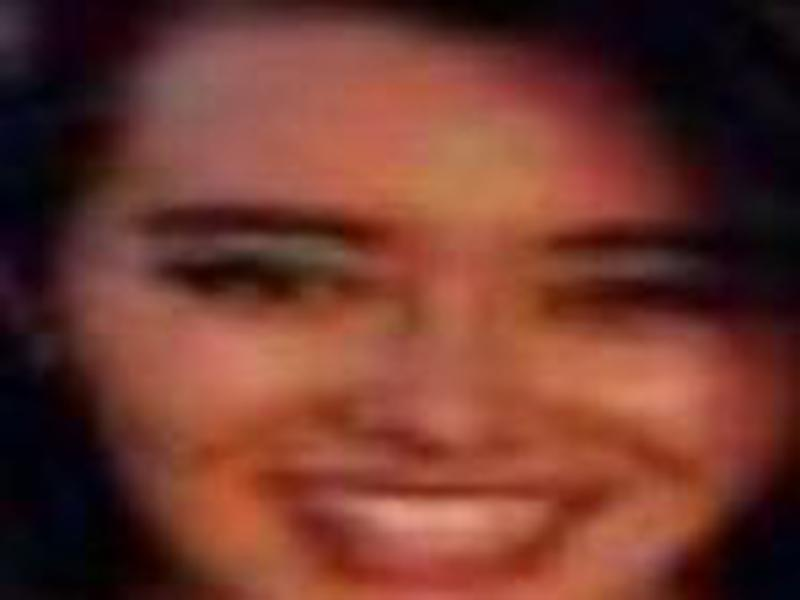without_mask: (52, 116, 789, 600)
